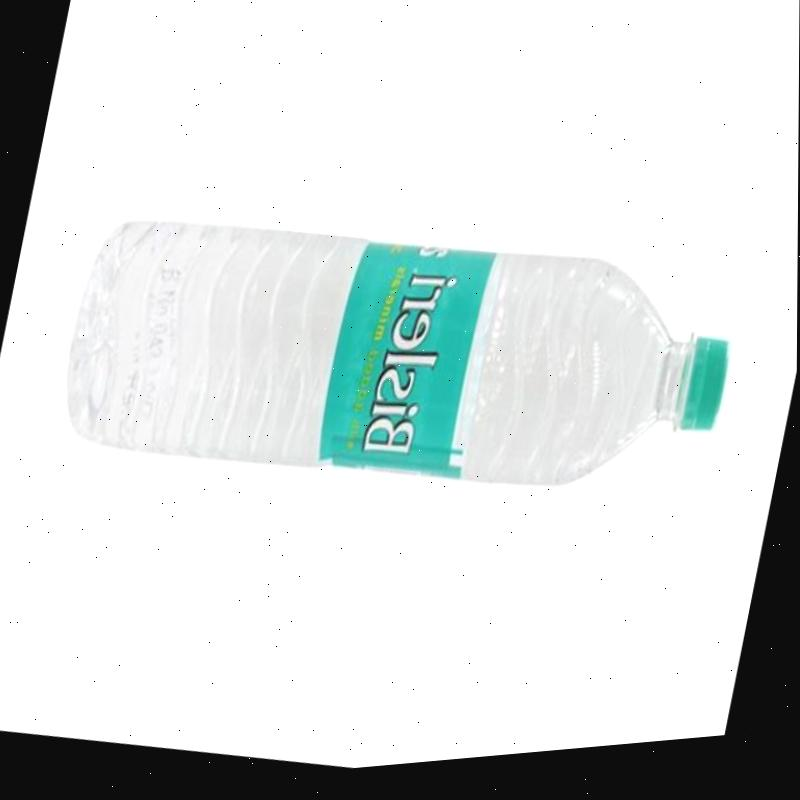botella: (51, 162, 747, 564)
